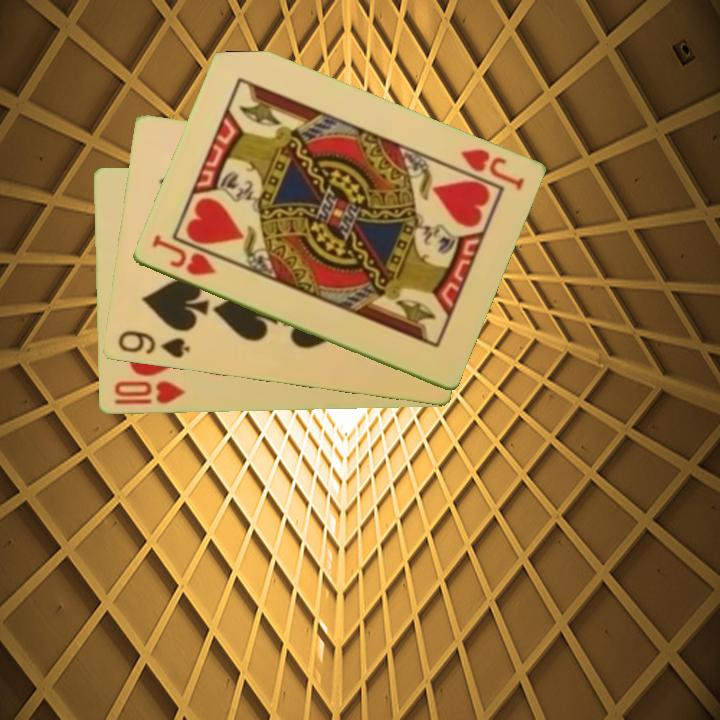10h: (110, 378, 187, 407)
9s: (114, 327, 192, 362)
Jh: (456, 145, 527, 194), (148, 231, 218, 279)
